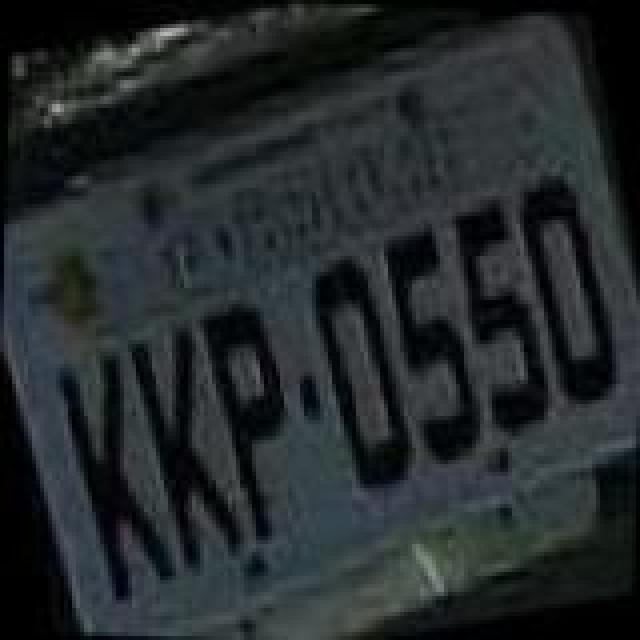5: (368, 214, 496, 470), (440, 184, 568, 440)
K: (42, 336, 186, 608), (118, 320, 258, 580)
O: (292, 248, 432, 504), (506, 164, 634, 412)
P: (184, 296, 320, 552)
